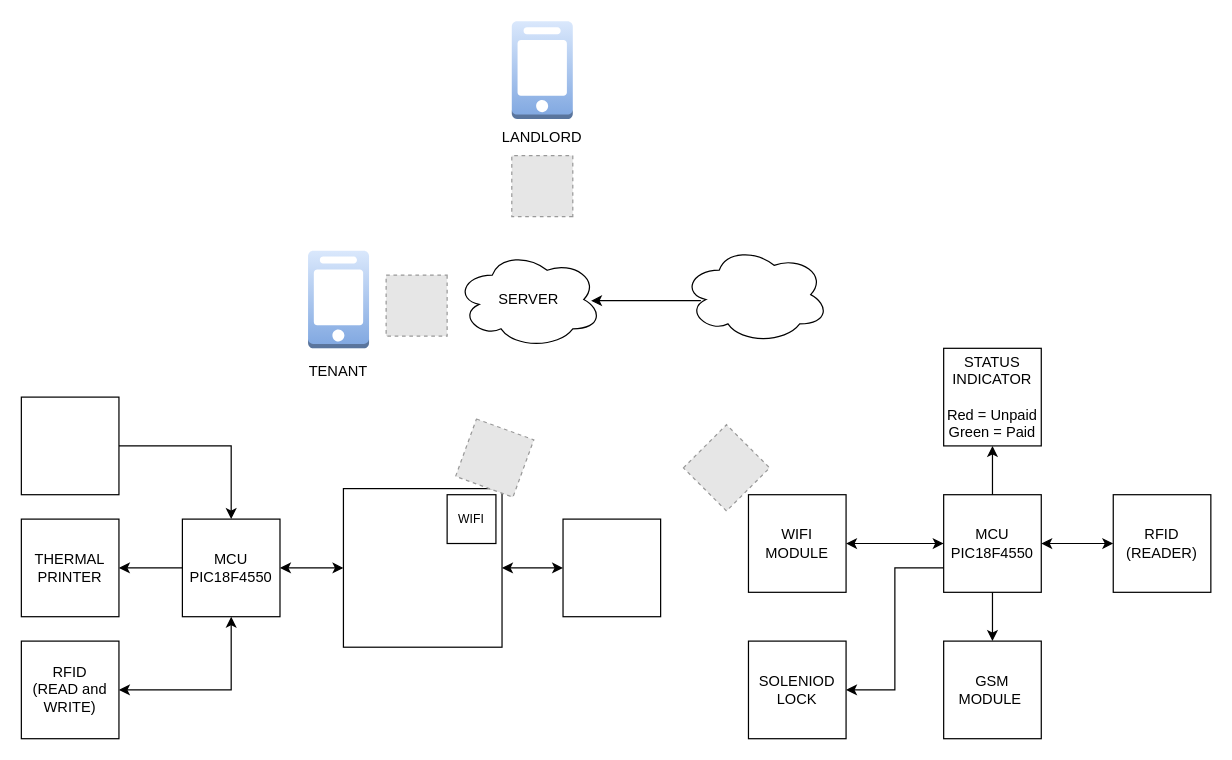
This 1232x760 diagram has some shape labels left out. Grey dashed boxes stand in for pictures. Here are the shapes that lost their labels. From the top down, the box of each, then its label:
(681, 245, 829, 343): DATABASE
(20, 396, 119, 495): BILL ACCEPTOR
(342, 487, 502, 647): RASPBERRY PI
(562, 518, 661, 617): LCD MONITOR
